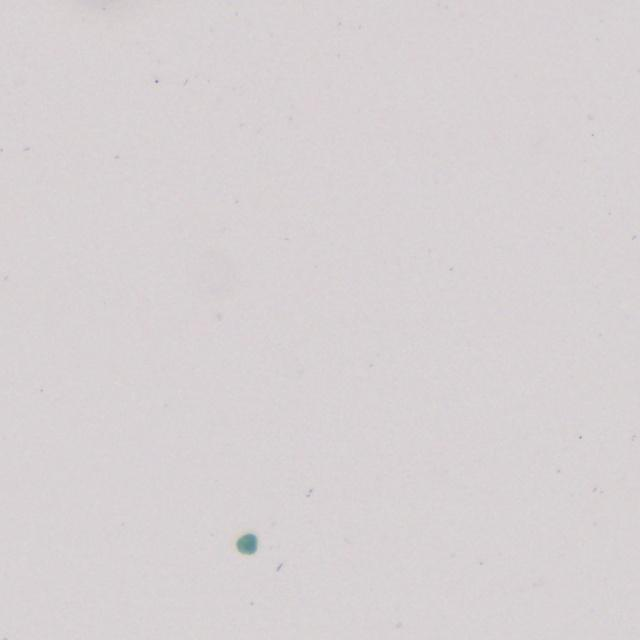non_viable: (236, 533, 257, 554)
